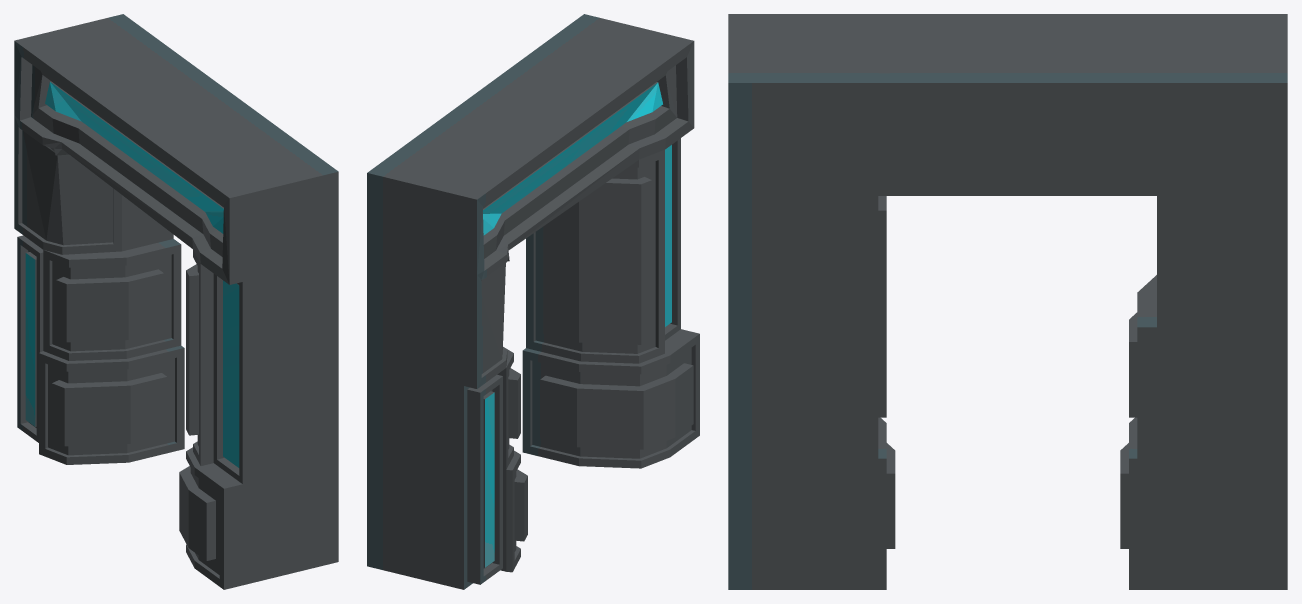
File: EspacioContenidoPuertaExteriorNI.gltf
3 renders of one model, left to right at view 1: azimuth 30°, elevation 25°; view 2: azimuth 150°, elevation 25°; view 3: azimuth 270°, elevation 25°, orthographic. The views are drawn at different scales.
Visible parts, largest first — view 1: Cubo.63; view 2: Cubo.63; view 3: Cubo.63.
Boxes of the visible parts, left/top/right/bottom form: Cubo.63: left=14, top=14, right=338, bottom=589; Cubo.63: left=367, top=14, right=699, bottom=589; Cubo.63: left=728, top=14, right=1287, bottom=589.
Size of the model in its own units: 0.645 by 2 by 2.
Materials: 1 (1 with a texture image).
